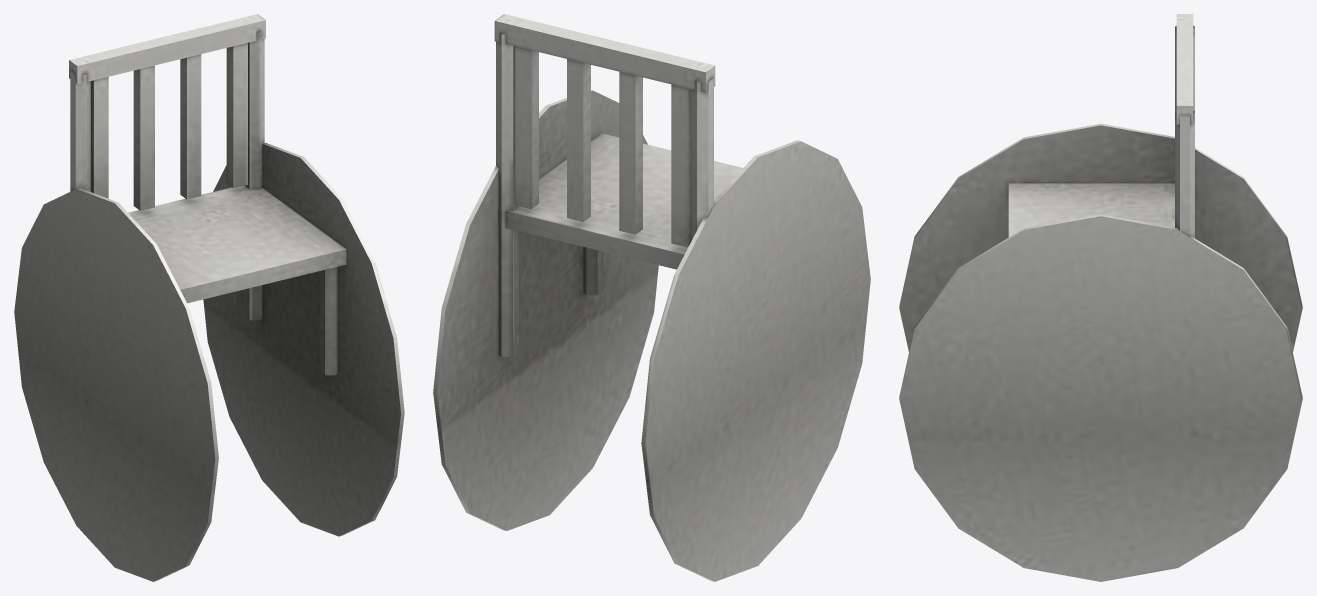
Rendered from mecedora.glb.
The picture shows the model from 3 angles, left to right: view 1: azimuth 30°, elevation 25°; view 2: azimuth 150°, elevation 25°; view 3: azimuth 270°, elevation 25°; orthographic projection. The views are drawn at different scales.
Parts seen in each view (by area): view 1: mecedora; view 2: mecedora; view 3: mecedora.
Part boxes in pixels (x1,y1,x2,y2): mecedora: (14, 14, 404, 581); mecedora: (433, 14, 870, 581); mecedora: (899, 14, 1302, 581).
Size of the model in its own units: 0.783 by 1.87 by 1.44.
Materials: 1 (1 with a texture image).
